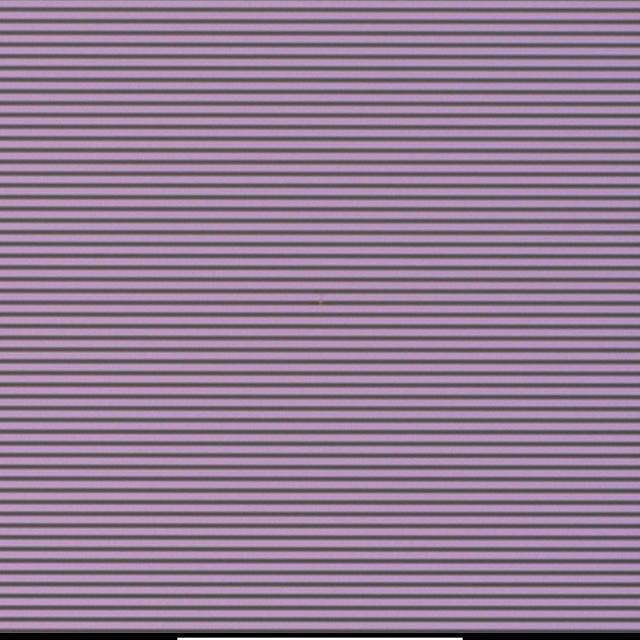03_intrusion: (314, 292, 326, 308)
